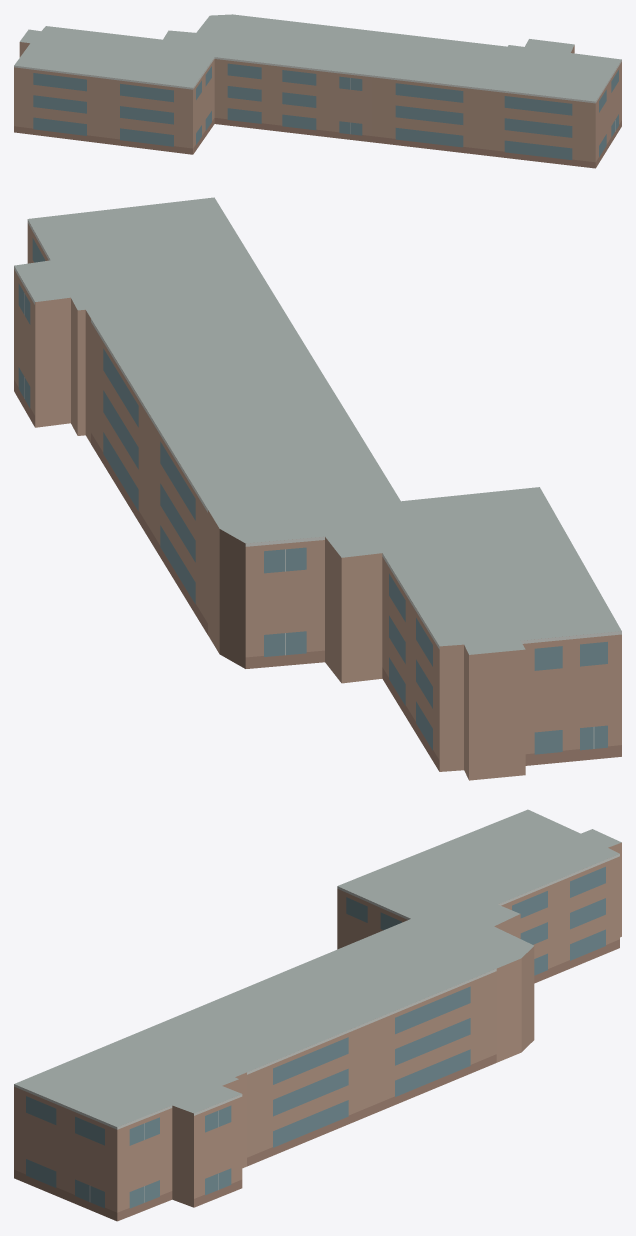
Rendered from survey-upis-32718476.glb.
The picture shows the model from 3 angles, top to bottom: view 1: azimuth 30°, elevation 25°; view 2: azimuth 150°, elevation 25°; view 3: azimuth 270°, elevation 25°; orthographic projection. The views are drawn at different scales.
Visible parts, largest first — view 1: survey-upis-32718476.tmp; view 2: survey-upis-32718476.tmp; view 3: survey-upis-32718476.tmp.
Boxes of the visible parts, left/top/right/bottom form: survey-upis-32718476.tmp: left=14, top=14, right=621, bottom=168; survey-upis-32718476.tmp: left=14, top=197, right=621, bottom=780; survey-upis-32718476.tmp: left=14, top=809, right=621, bottom=1221.
Size of the model in its own units: 66.18 by 9.15 by 53.5.
